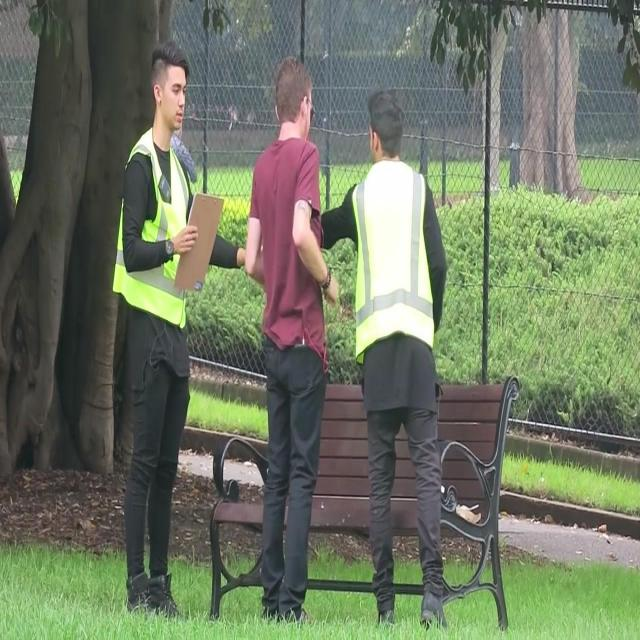Reflective-Jacket: (107, 124, 209, 334), (345, 156, 441, 374)
